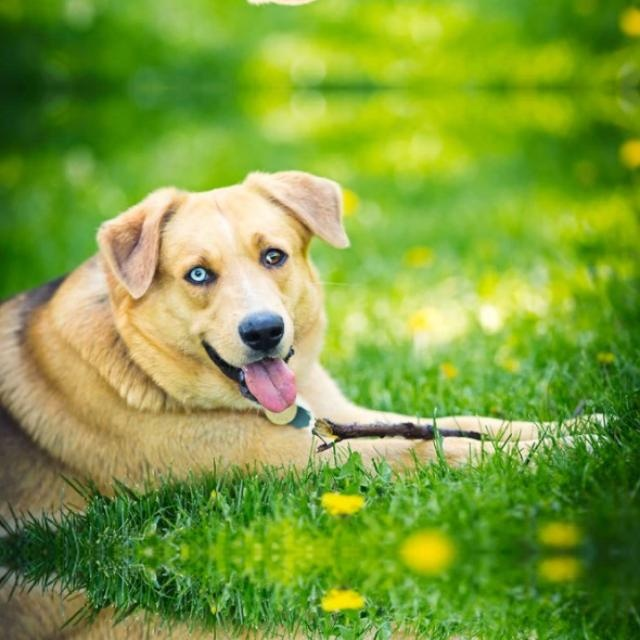dog: (3, 132, 579, 552), (3, 551, 579, 640), (3, 0, 579, 41)
